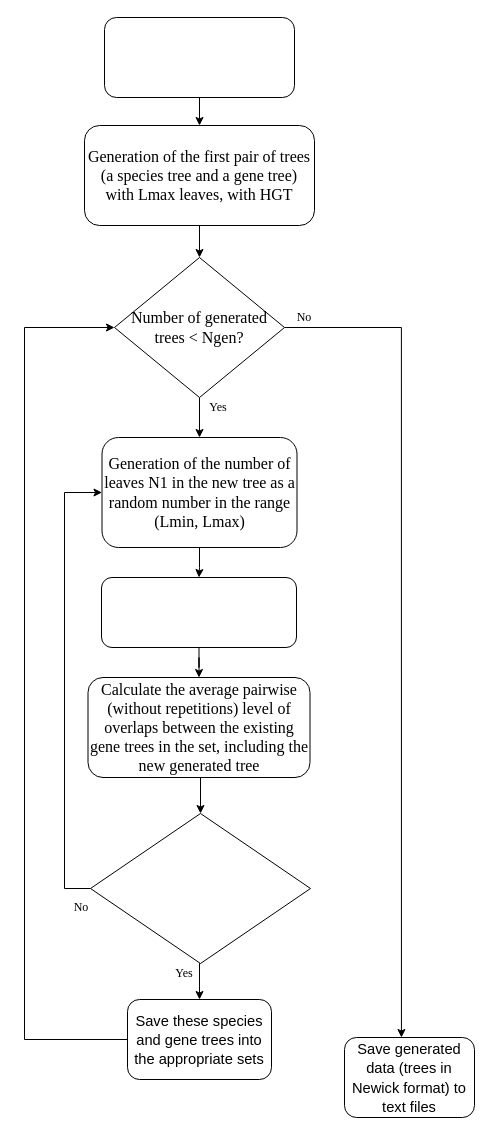
The diagram is 492 pixels wide and 1135 high, and some of its shapes have lost their labels. Here are the shapes that lost their labels. From the top down, the centre of each, then its label:
point (199, 57): The user inputs the initial values: Lmin, Lmax, Ngen, plevel
point (198, 612): Generation of a new tree pair with N1 leaves. Working with gene trees
point (200, 888): T he average level of overlap in range (plevel-0.01; plevel+0.01)?
